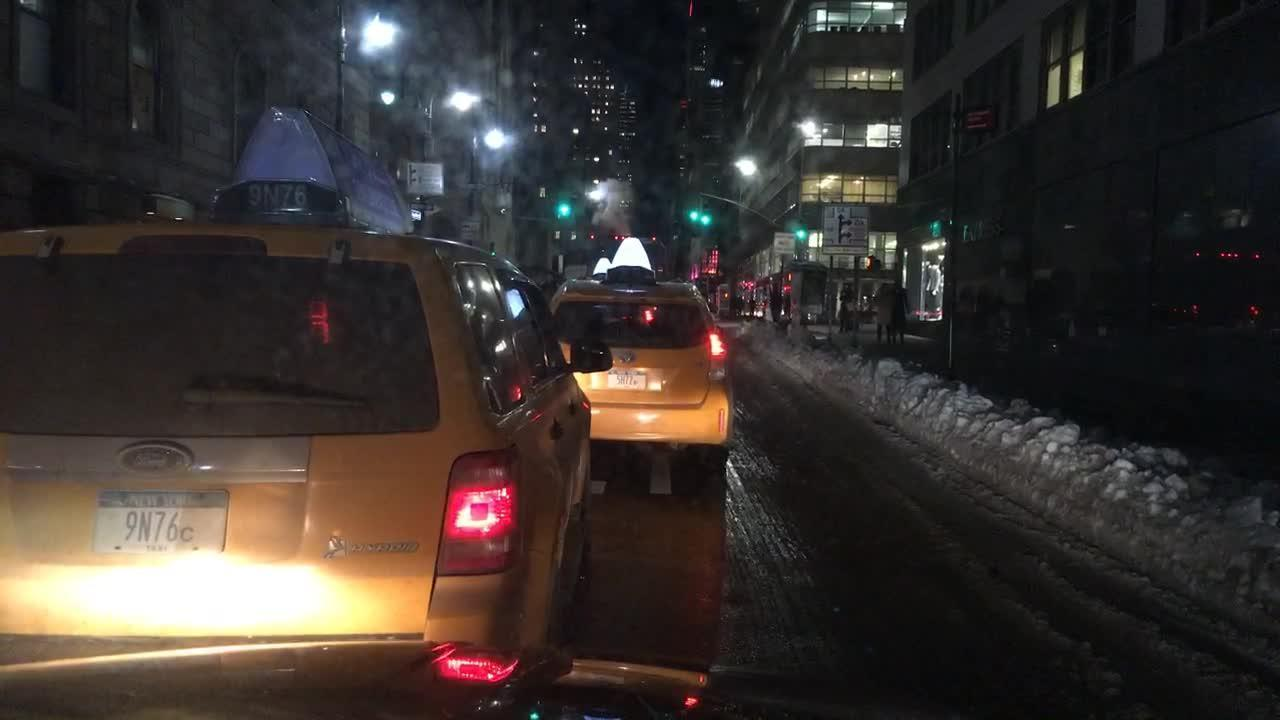Toyota: (617, 348, 643, 368)
ford: (102, 435, 197, 482)
